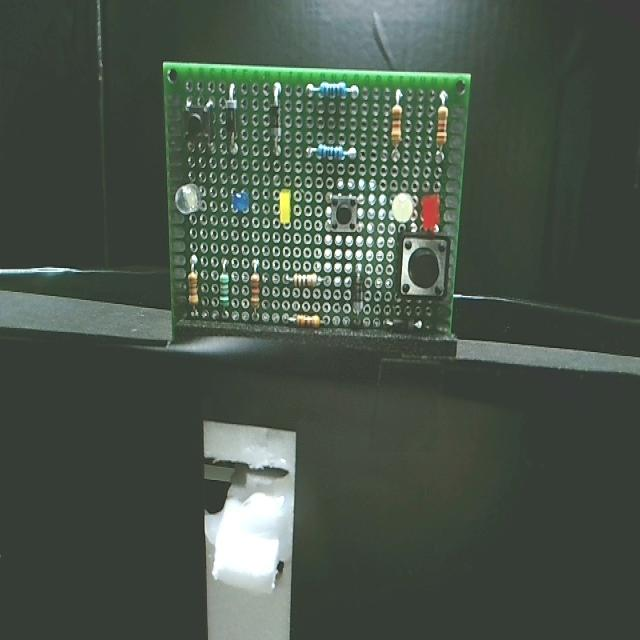diode: (265, 80, 285, 156), (223, 83, 242, 159), (348, 262, 368, 323), (379, 316, 427, 336)
led: (173, 182, 208, 220), (418, 191, 443, 235), (389, 191, 419, 225), (274, 187, 295, 230), (228, 187, 254, 216)
resistor: (304, 80, 362, 108), (213, 257, 235, 323), (303, 143, 361, 168), (434, 87, 452, 166), (389, 87, 407, 165), (183, 254, 204, 320), (283, 270, 333, 294), (280, 309, 332, 331), (246, 260, 262, 324)
switch: (394, 225, 452, 303), (322, 189, 368, 240), (182, 99, 218, 155)
